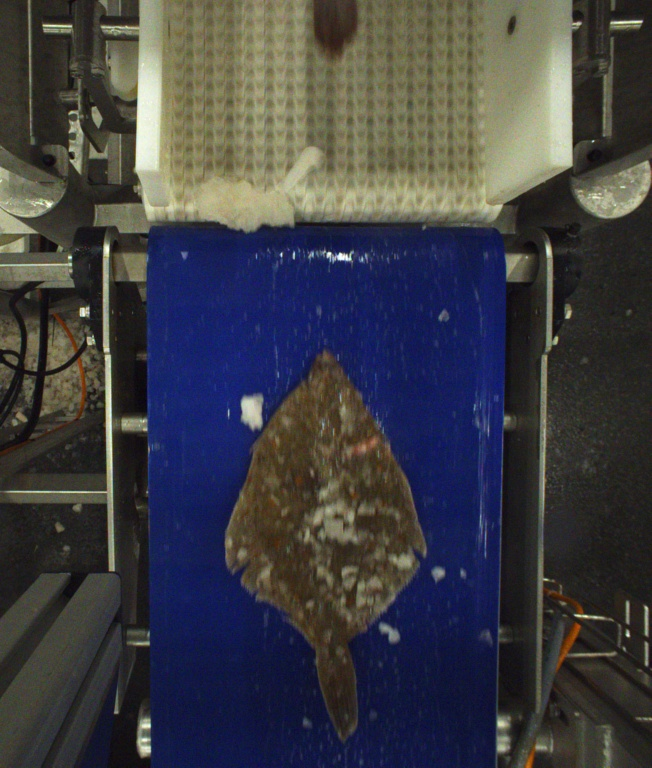PLE: (223, 348, 427, 736)
